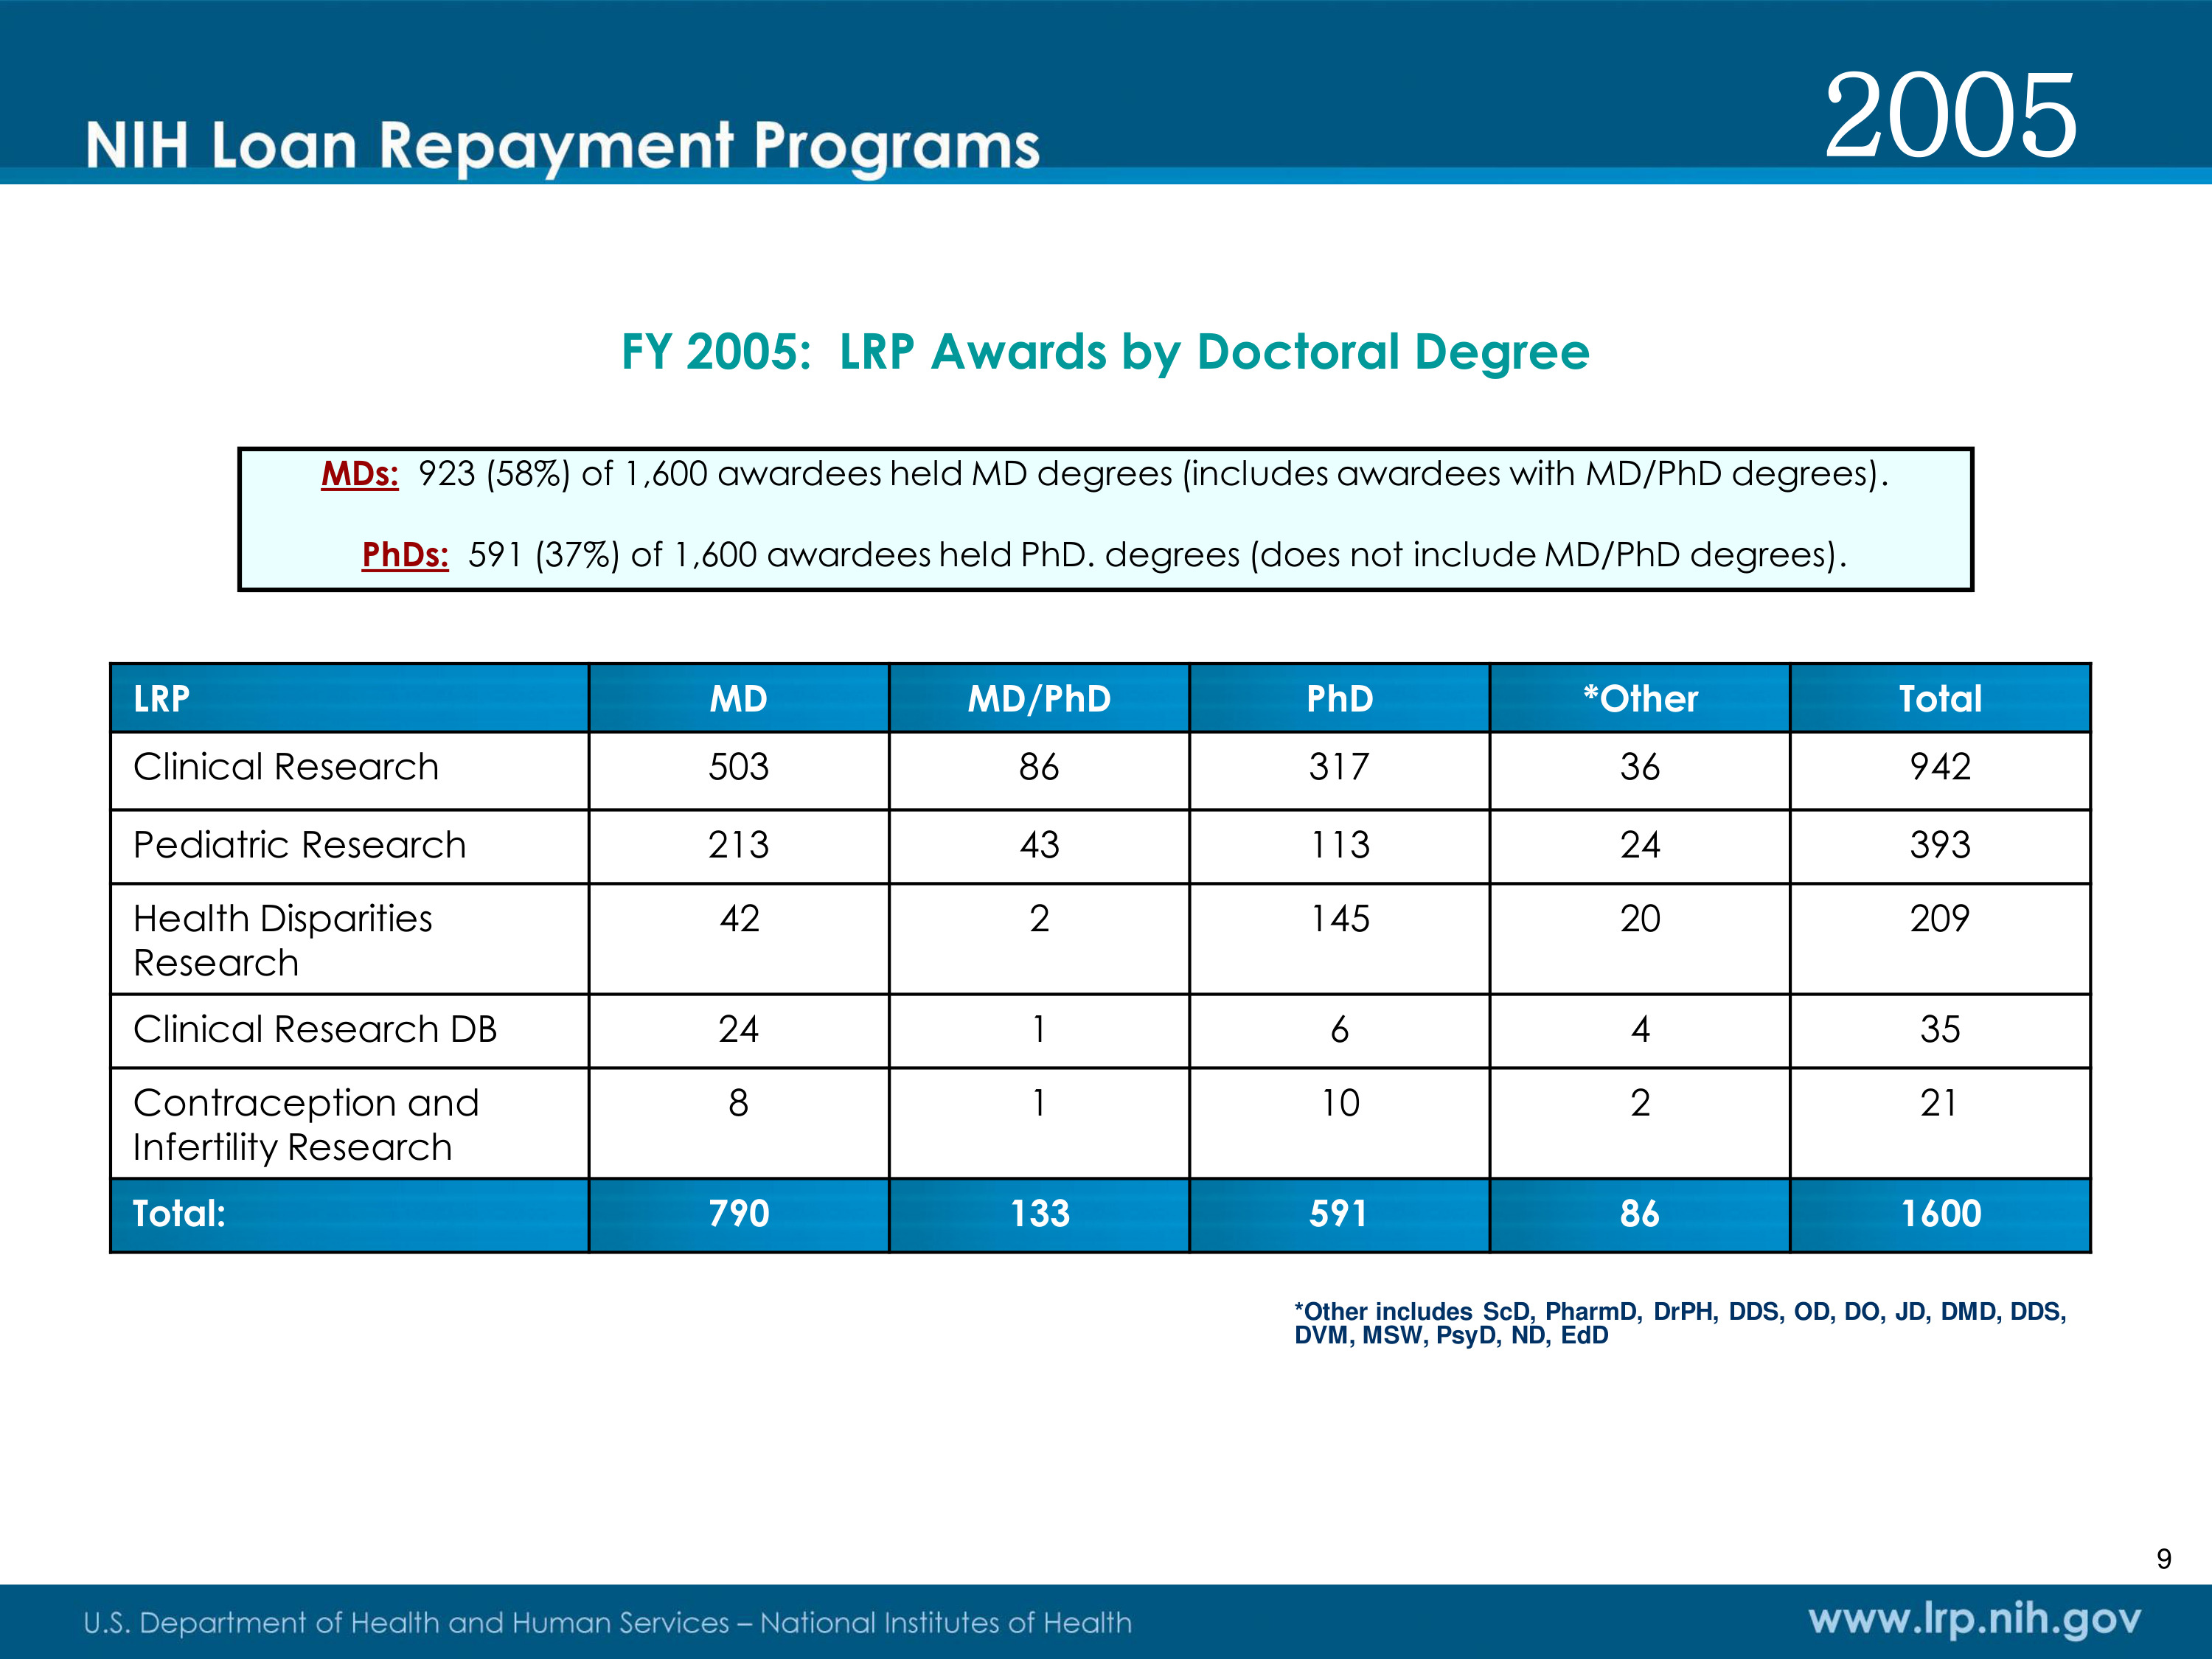table: (132, 674, 1982, 1234)
